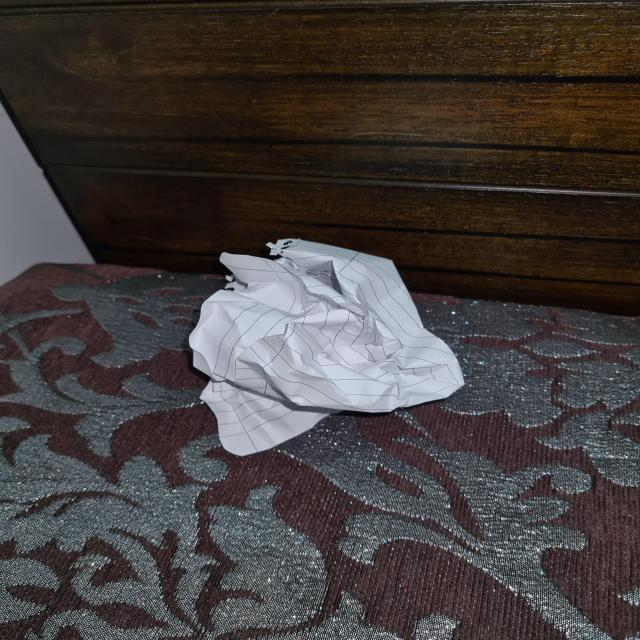kertas: (184, 237, 454, 453)
